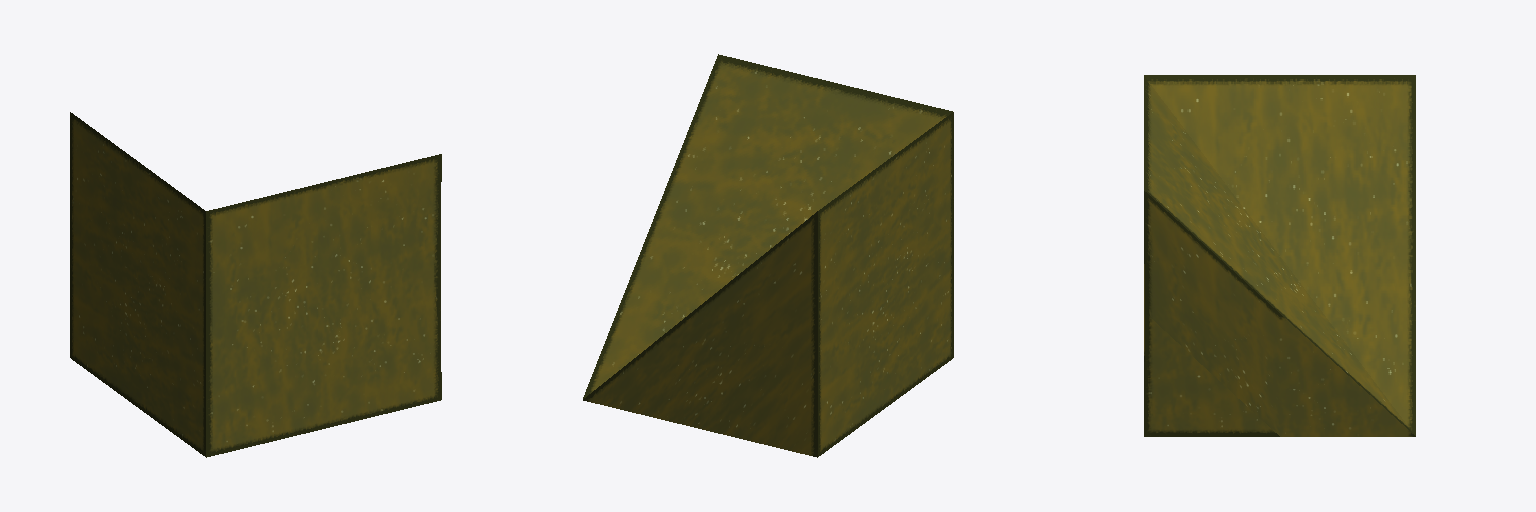
The picture shows the model from 3 angles: view 1: azimuth 30°, elevation 25°; view 2: azimuth 150°, elevation 25°; view 3: azimuth 270°, elevation 25°; orthographic projection.
Visible parts, largest first — view 1: 6_path; view 2: 6_path; view 3: 6_path.
Part boxes in pixels (bbox=[...]): 6_path: bbox=[70, 112, 441, 457]; 6_path: bbox=[583, 54, 953, 457]; 6_path: bbox=[1144, 75, 1415, 436].
Size of the model in its own units: 1 by 1 by 1.
1 materials, 1 textured.